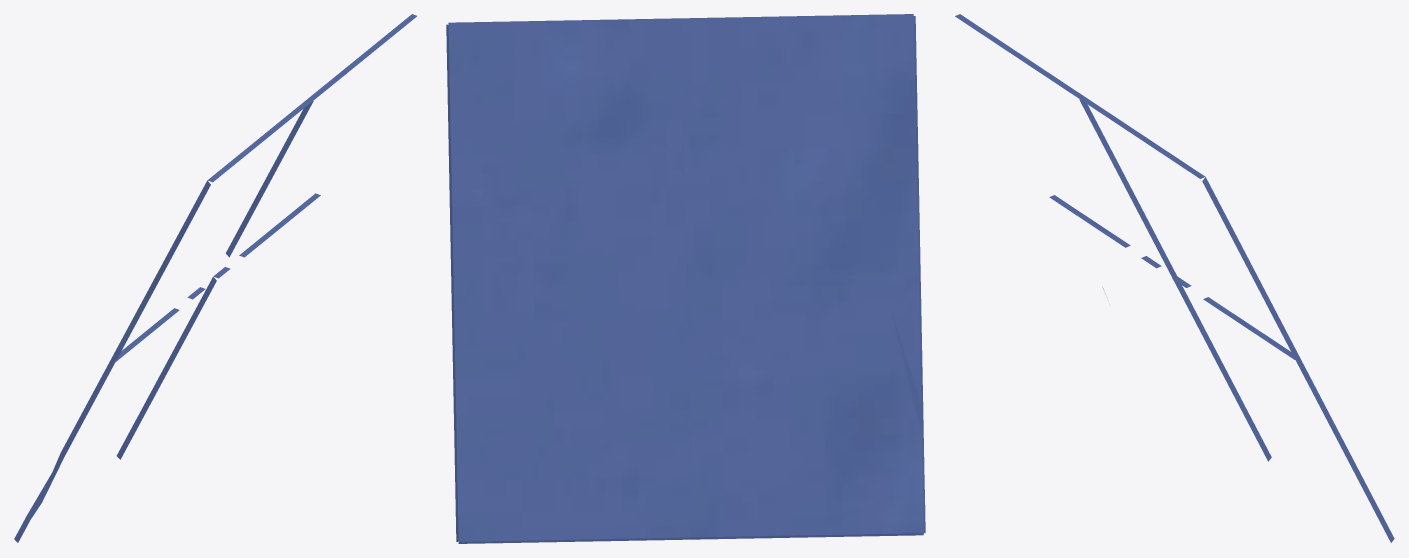
The picture shows the model from 3 angles, left to right: view 1: azimuth 30°, elevation 25°; view 2: azimuth 150°, elevation 25°; view 3: azimuth 270°, elevation 25°; orthographic projection. The views are drawn at different scales.
Bounding box in the file's own units: 39410 × 35523 × 33997.
1 material, 1 textured.
